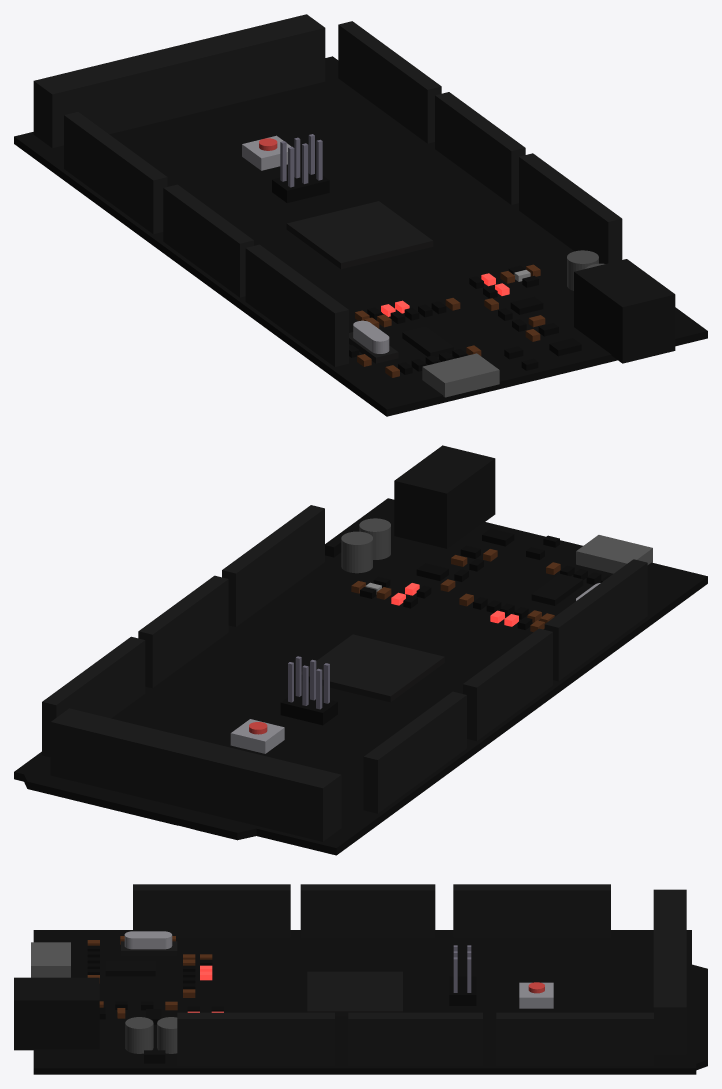
The model's file is Arduino Mega.fbx.
The picture shows the model from 3 angles, top to bottom: view 1: azimuth 30°, elevation 25°; view 2: azimuth 150°, elevation 25°; view 3: azimuth 270°, elevation 25°; orthographic projection. The views are drawn at different scales.
Visible parts, largest first — view 1: Cube, Cube.006, Cube.001, Cube.003, Cube.005, Cube.007, Cube.009, Cube.010, Cube.008, Cube.004, Cube.002, Cube.011 (+4 smaller); view 2: Cube, Cube.006, Cube.001, Cube.005, Cube.009, Cube.003, Cube.004, Cube.008, Cube.010, Cube.007, Cube.002, Circle.002 (+4 smaller); view 3: Cube, Cube.009, Cube.007, Cube.005, Cube.003, Cube.008, Cube.004, Cube.001, Cube.006, Cube.010, Cube.002, Circle.003 (+6 smaller).
Part boxes in pixels (x1,y1,x2,y2): Cube: (14, 56, 707, 416); Cube.006: (33, 14, 325, 148); Cube.001: (574, 259, 675, 363); Cube.003: (245, 244, 348, 366); Cube.005: (64, 112, 167, 234); Cube.007: (338, 21, 441, 143); Cube.009: (519, 153, 622, 263); Cube.010: (286, 201, 433, 269); Cube.008: (435, 92, 525, 204); Cube.004: (163, 184, 253, 297); Cube.002: (422, 353, 499, 397); Cube.011: (272, 170, 329, 202); Cube: (14, 498, 707, 855); Cube.006: (50, 708, 341, 841); Cube.001: (394, 445, 495, 548); Cube.005: (363, 691, 466, 813); Cube.009: (222, 505, 324, 626); Cube.003: (544, 559, 647, 681); Cube.004: (463, 628, 552, 740); Cube.008: (138, 575, 228, 688); Cube.010: (301, 634, 444, 702); Cube.007: (42, 636, 145, 757); Cube.002: (576, 535, 652, 573); Circle.002: (341, 531, 372, 573); Cube: (33, 930, 707, 1074); Cube.009: (177, 1012, 334, 1066); Cube.007: (496, 1012, 653, 1066); Cube.005: (453, 884, 610, 937); Cube.003: (133, 884, 290, 937); Cube.008: (348, 1012, 482, 1066); Cube.004: (300, 884, 435, 937); Cube.001: (14, 977, 99, 1050); Cube.006: (653, 889, 686, 1054); Cube.010: (307, 971, 402, 1016); Cube.002: (31, 942, 70, 977); Circle.003: (125, 1017, 153, 1053).
Size of what is drawn, in the model's own units: 200 by 37.4 by 424.
